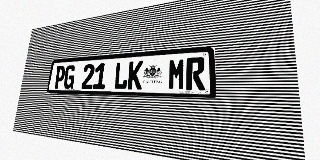1: (93, 63, 107, 89)
2: (81, 64, 95, 89)
G: (63, 65, 76, 89)
K: (127, 61, 143, 90)
L: (113, 62, 129, 89)
M: (168, 58, 186, 90)
P: (53, 65, 66, 89)
R: (186, 57, 205, 90)
